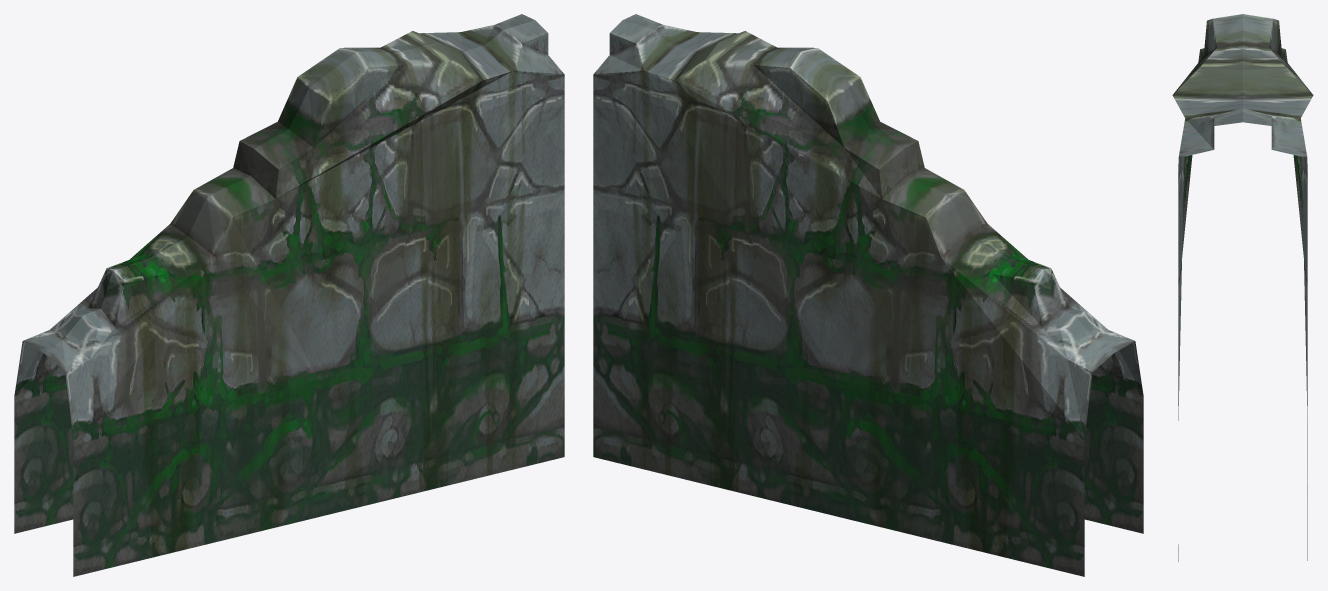
Rendered from stemple_wall_transition_02.fbx.
3 renders of one model, left to right at view 1: azimuth 30°, elevation 25°; view 2: azimuth 150°, elevation 25°; view 3: azimuth 270°, elevation 25°, orthographic. The views are drawn at different scales.
Parts seen in each view (by area): view 1: obj0.058; view 2: obj0.058; view 3: obj0.058.
Part boxes in pixels (x1,y1,x2,y2): obj0.058: (14, 14, 564, 576); obj0.058: (593, 14, 1143, 576); obj0.058: (1172, 14, 1313, 561).
Size of the model in its own units: 4 by 3.33 by 0.909.
